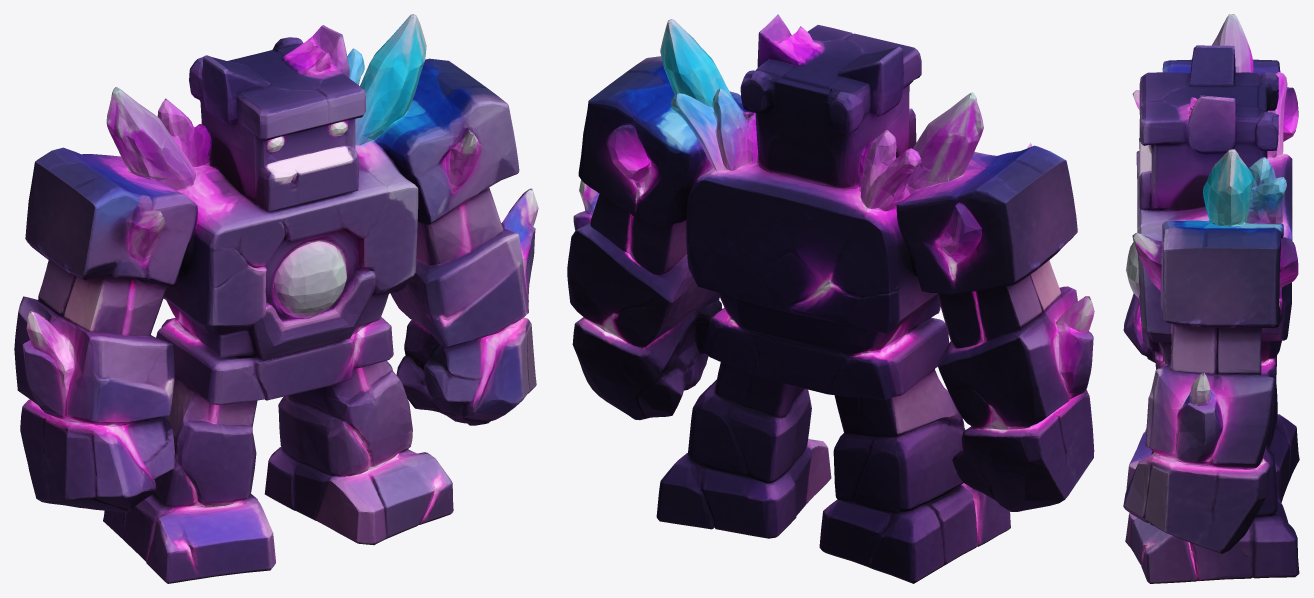
File: crystalgolem_lo.glb
3 views of the same model, side by side, from view 1: azimuth 30°, elevation 25°; view 2: azimuth 150°, elevation 25°; view 3: azimuth 270°, elevation 25° (orthographic). The views are drawn at different scales.
Visible parts, largest first — view 1: geometry_0; view 2: geometry_0; view 3: geometry_0.
Boxes of the visible parts, x1,y1,x2,y2 form: geometry_0: [14, 14, 538, 583]; geometry_0: [567, 14, 1094, 583]; geometry_0: [1123, 14, 1299, 583].
Size of the model in its own units: 1 by 0.9035 by 0.3195.
1 material, 1 textured.
